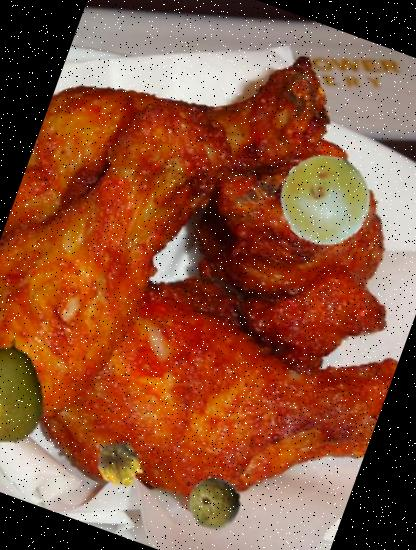Grape: (266, 141, 384, 258)
Guava: (180, 468, 250, 538)
Pear: (0, 324, 71, 459)
Physalis: (85, 432, 153, 499)
Tamarillo: (268, 148, 376, 256)
